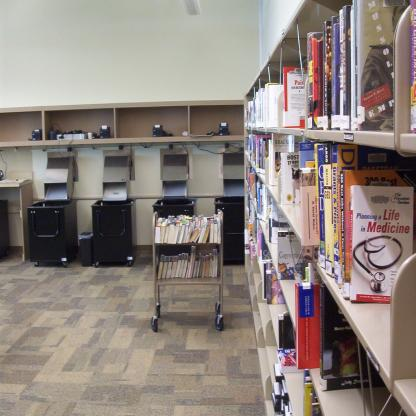book: (244, 2, 416, 416), (155, 248, 221, 282), (150, 217, 224, 241)
